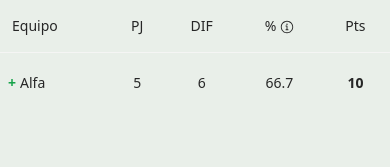
Test: TablaEquipos responsive › muestra DIF y expande detalle al tap
expect the button "DIF" is shown: met, box [182, 4, 221, 48]
expect the text "6" is shown: met, box [166, 52, 238, 113]
Click the button with aria-label "Detalle de Alfa": [27, 83] box [8, 61, 45, 105]
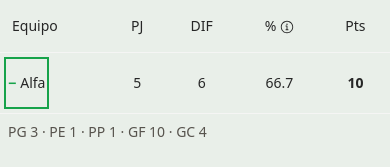
expect the text "PG 3 · PE 1 · PP 1 · GF 10 · GC 4" is shown: met, box [0, 114, 389, 150]
Click the button with aria-label "Detalle de Alfa": [27, 83] box [8, 61, 45, 105]
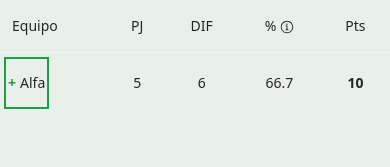
expect the text "PG 3 · PE 1" is gone: met
